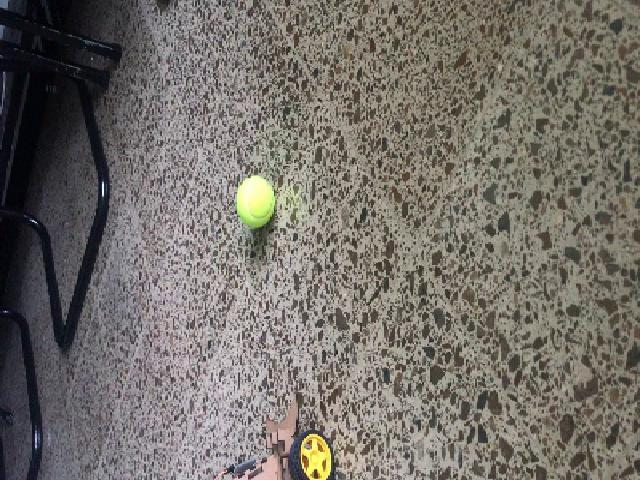Ball: (235, 178, 274, 228)
Robot: (198, 398, 333, 479)
